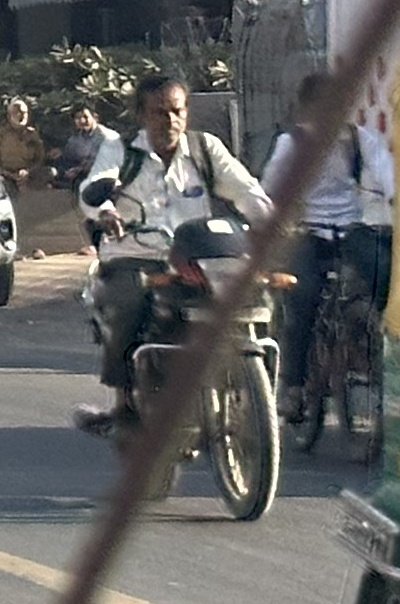BikeWithRider: (74, 62, 306, 550)
NoHelmet: (125, 71, 213, 156)
